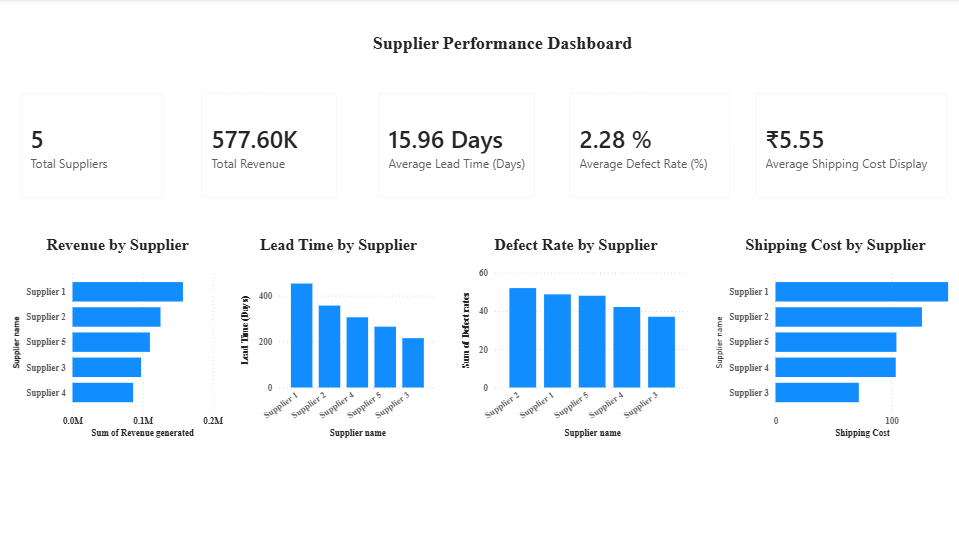

This screenshot's page, from the dashboard's own definition file:
{"tool":"powerbi","page":{"name":"Supplier Performance Dashboard","canvas":[1280,720],"ordinal":1},"visuals":[{"type":"cardVisual","fields":{"Data":["clean_products.Total Suppliers"]},"box":[10,108,224,174],"z":0},{"type":"cardVisual","fields":{"Data":["clean_products.Total Revenue"]},"box":[252,108,214,174],"z":1000},{"type":"cardVisual","fields":{"Data":["clean_products.Average Lead Time (Days)"]},"box":[488,108,242,174],"z":2000},{"type":"cardVisual","fields":{"Data":["clean_products.Average Defect Rate (%)"]},"box":[742,108,248,174],"z":3000},{"type":"cardVisual","fields":{"Data":["clean_products.Average Shipping Cost Display"]},"box":[990,108,290,174],"z":4000},{"type":"clusteredBarChart","title":"Revenue by Supplier","fields":{"Category":["clean_products.Supplier name"],"Y":["Sum(clean_products.Revenue generated)"]},"box":[10,316,292,274],"z":5000},{"type":"clusteredColumnChart","title":"Lead Time by Supplier","fields":{"Category":["clean_products.Supplier name"],"Y":["Sum(clean_products.Lead times)"]},"box":[316,316,270,274],"z":6000},{"type":"clusteredColumnChart","title":"Defect Rate by Supplier","fields":{"Category":["clean_products.Supplier name"],"Y":["Sum(clean_products.Defect rates)"]},"box":[610,316,314,274],"z":7000},{"type":"clusteredBarChart","title":"Shipping Cost by Supplier","fields":{"Category":["clean_products.Supplier name"],"Y":["Sum(clean_products.Shipping costs)"]},"box":[948,316,332,274],"z":8000},{"type":"textbox","box":[392,40,556,68],"z":9000}]}

Visuals, with their boxes in screenshot pixels (x1, y1, x2, y2), scaled from the page's 1280x720 canvas onto the 959x536 screenshot:
cardVisual - clean_products.Total Suppliers: detection(7, 80, 175, 210)
cardVisual - clean_products.Total Revenue: detection(189, 80, 349, 210)
cardVisual - clean_products.Average Lead Time (Days): detection(366, 80, 547, 210)
cardVisual - clean_products.Average Defect Rate (%): detection(556, 80, 742, 210)
cardVisual - clean_products.Average Shipping Cost Display: detection(742, 80, 958, 210)
"Revenue by Supplier" clusteredBarChart: detection(7, 235, 226, 439)
"Lead Time by Supplier" clusteredColumnChart: detection(237, 235, 439, 439)
"Defect Rate by Supplier" clusteredColumnChart: detection(457, 235, 692, 439)
"Shipping Cost by Supplier" clusteredBarChart: detection(710, 235, 958, 439)
textbox: detection(294, 30, 710, 80)
